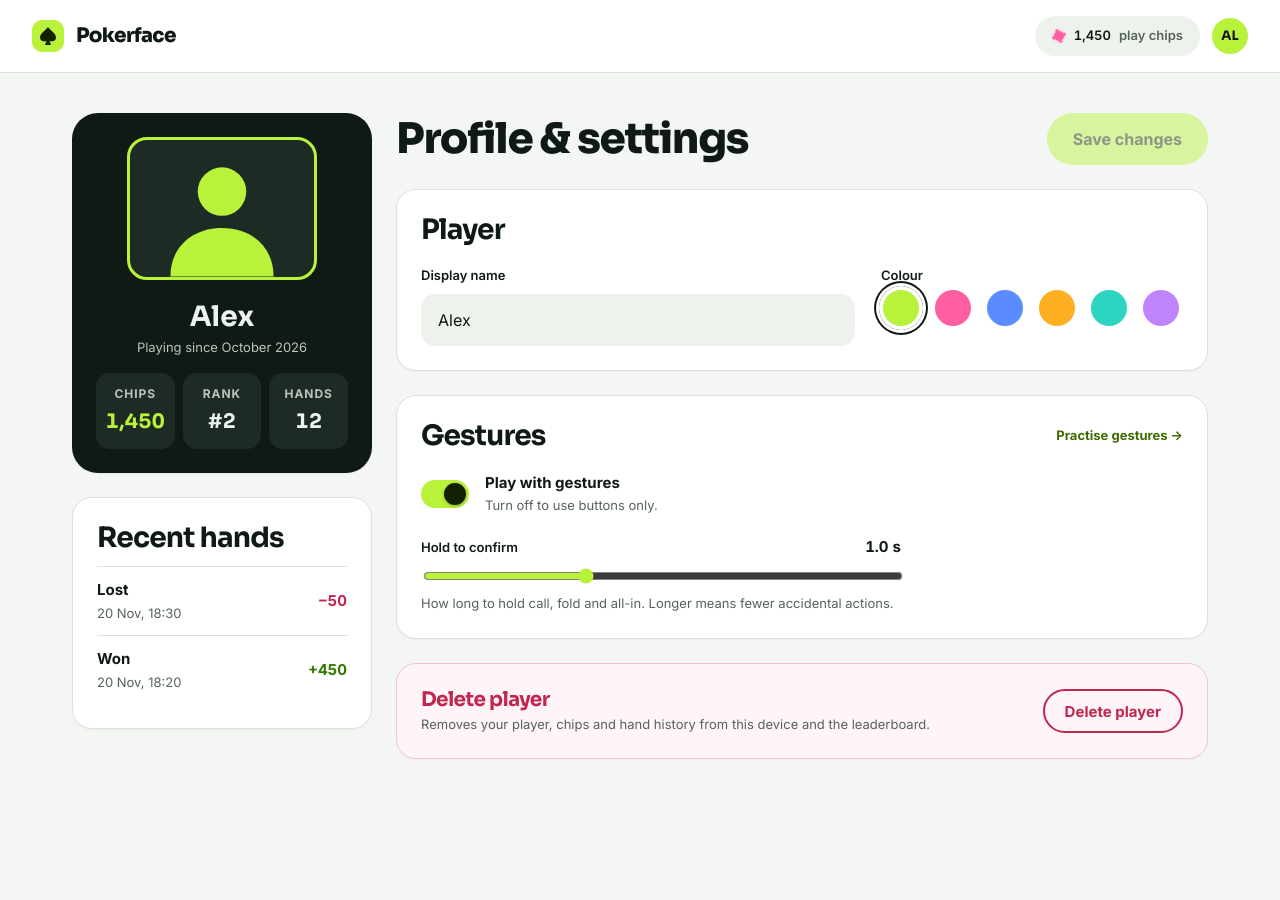
ProfilePage › keeps the player when deleting fails
Click the button "Delete player". click: (1113, 711)
box: [1043,689,1183,733]
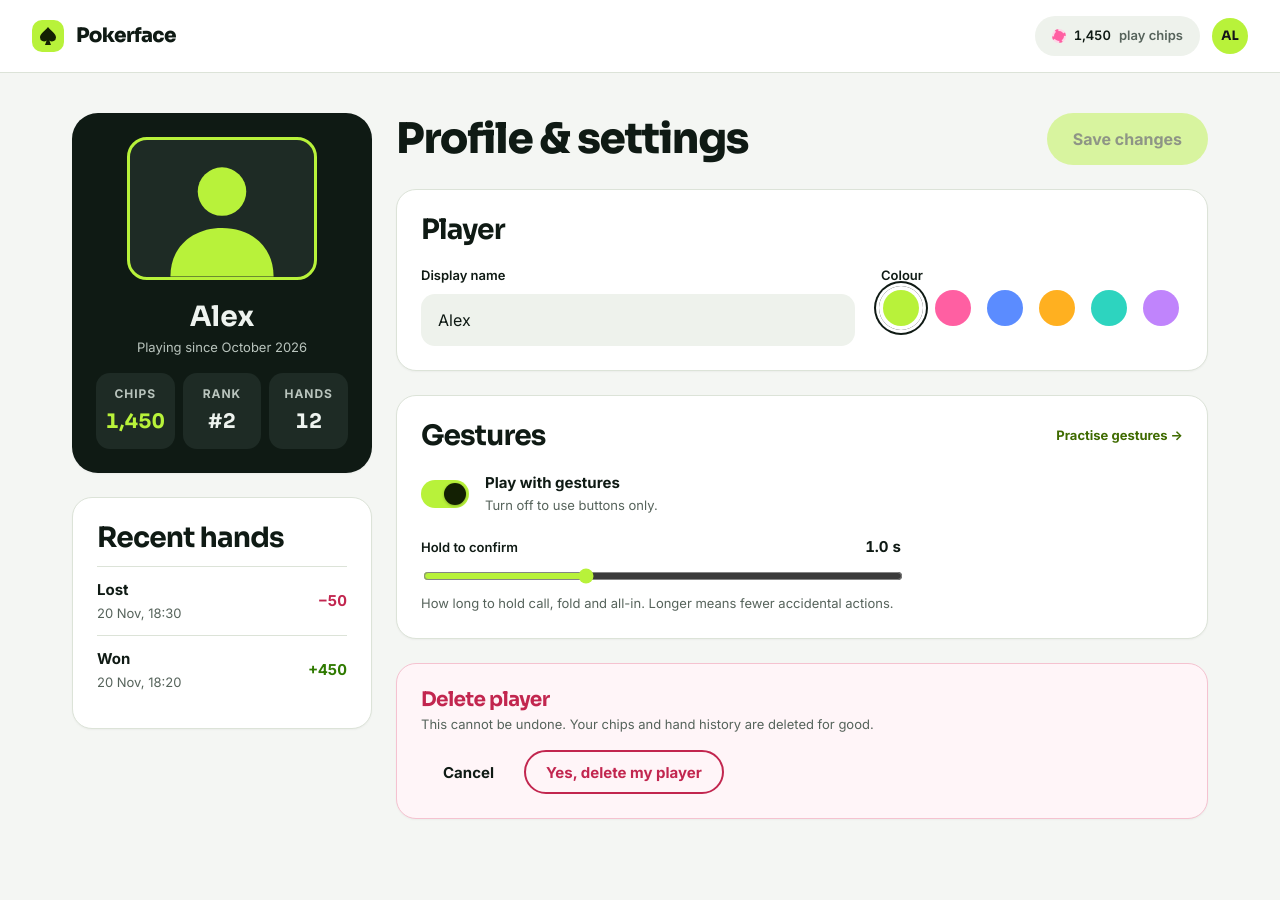
Click the button "Yes, delete my player". click: (624, 772)
box: [524,750,724,794]
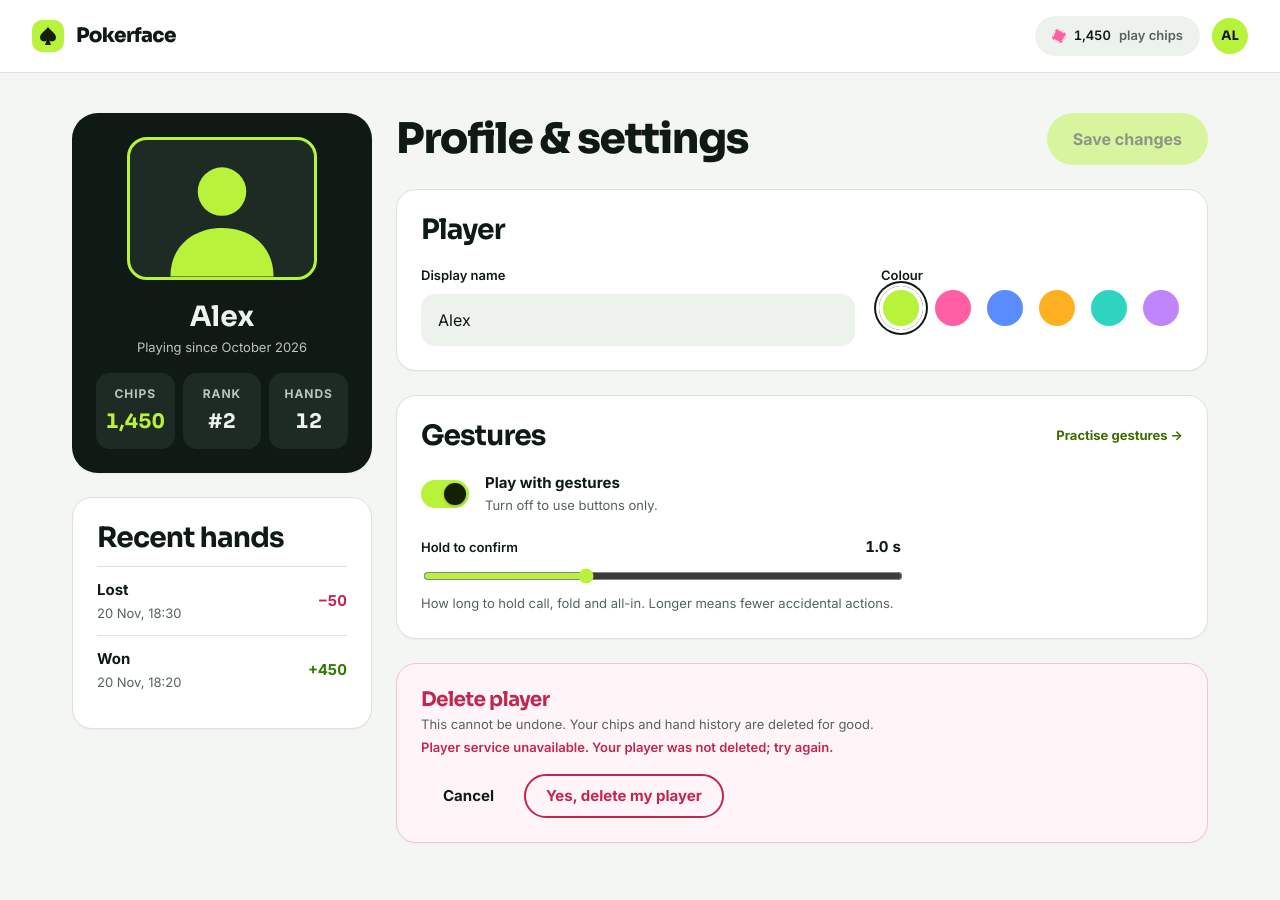
Check: the message shows "was not deleted", box [421,739,833,755]
